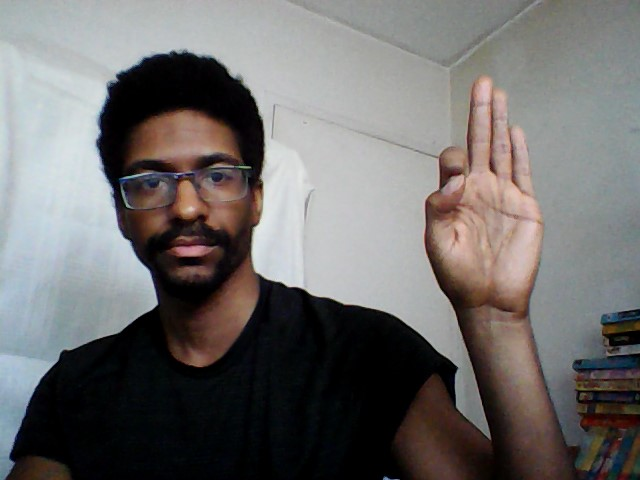f: (419, 69, 548, 321)
